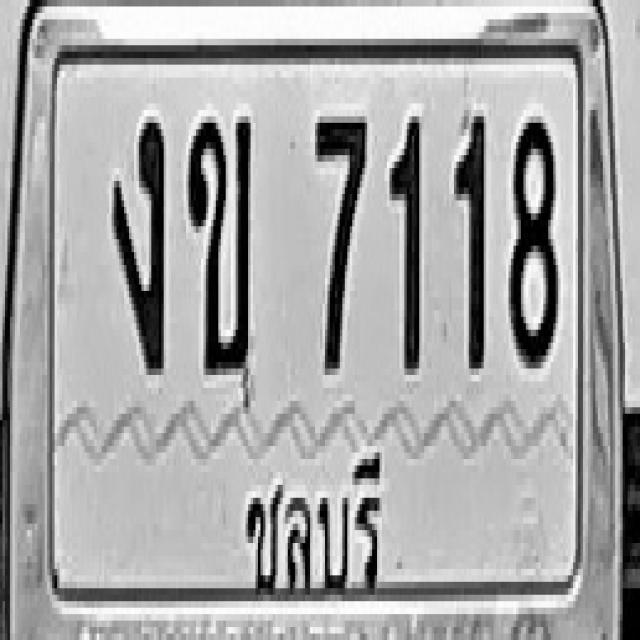1: (388, 113, 421, 372), (453, 110, 485, 368)
11KhorKhai: (186, 110, 251, 375)
16NgorNgu: (112, 116, 164, 375)
7: (314, 113, 366, 372)
8: (509, 113, 558, 365)
Chonburi: (240, 444, 389, 618)
